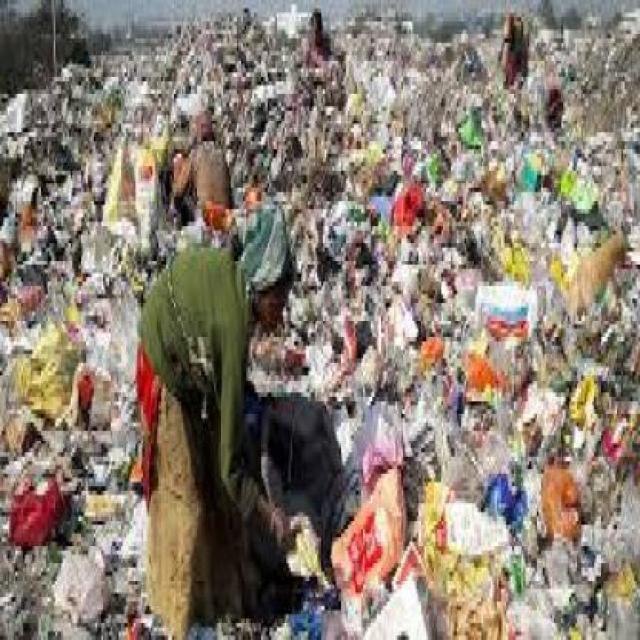garbage: (482, 103, 639, 632), (3, 65, 130, 624), (357, 90, 476, 636), (291, 128, 354, 384), (143, 0, 284, 94)
